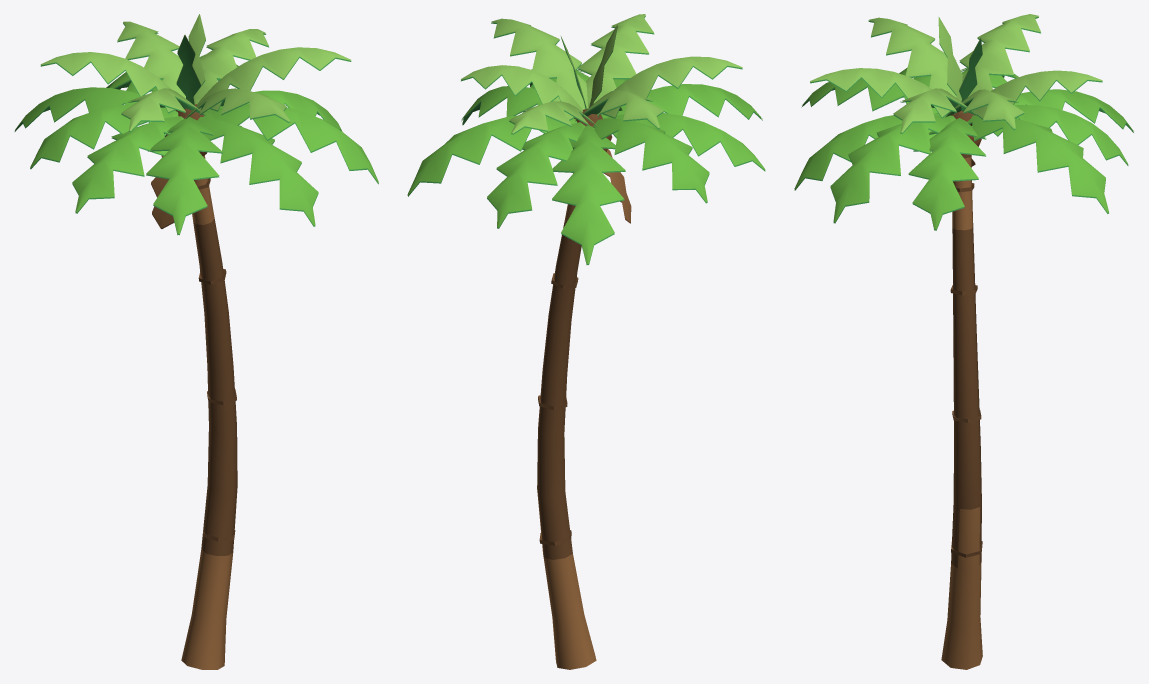
Rendered from Palmera1.fbx.
The picture shows the model from 3 angles, left to right: view 1: azimuth 30°, elevation 25°; view 2: azimuth 150°, elevation 25°; view 3: azimuth 270°, elevation 25°; orthographic projection. The views are drawn at different scales.
Parts seen in each view (by area): view 1: Palmera1; view 2: Palmera1; view 3: Palmera1.
Boxes of the visible parts, x1,y1,x2,y2 form: Palmera1: (14, 14, 378, 669); Palmera1: (407, 14, 765, 669); Palmera1: (794, 14, 1133, 669).
Size of the model in its own units: 11.53 by 24.73 by 12.09.
Materials: 1 (1 with a texture image).
